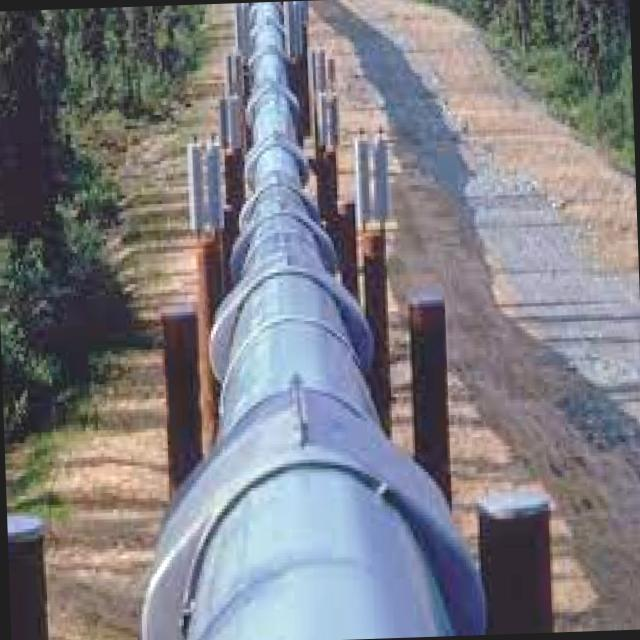gas: (141, 1, 484, 640)
